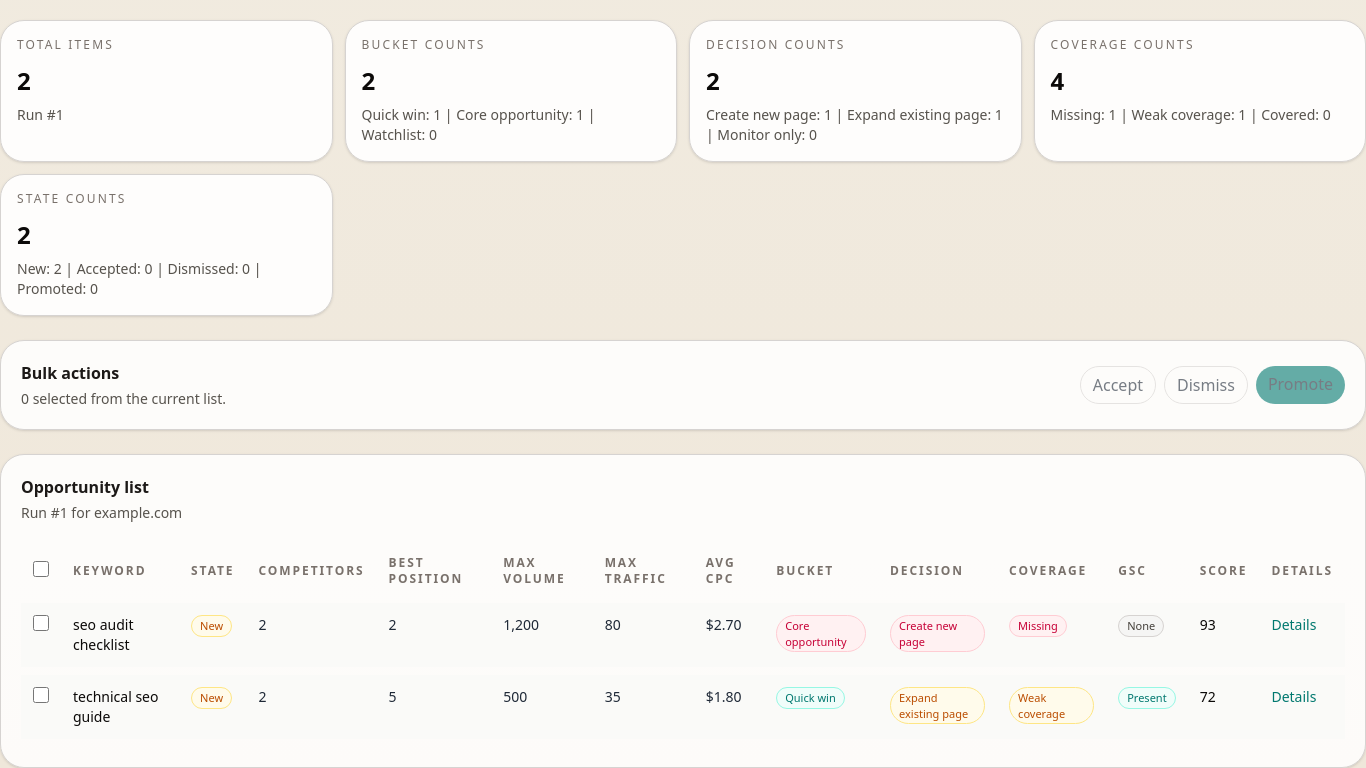
Test: SiteCompetitiveGapSemstormPage › supports bulk dismiss and updates state badge
(page scrolled)
Check: the heading "Opportunity list" is shown, box [21,476,149,498]
Click the checkbox named "Select seo audit checklist". click: x=41, y=623
box: [33,615,49,631]
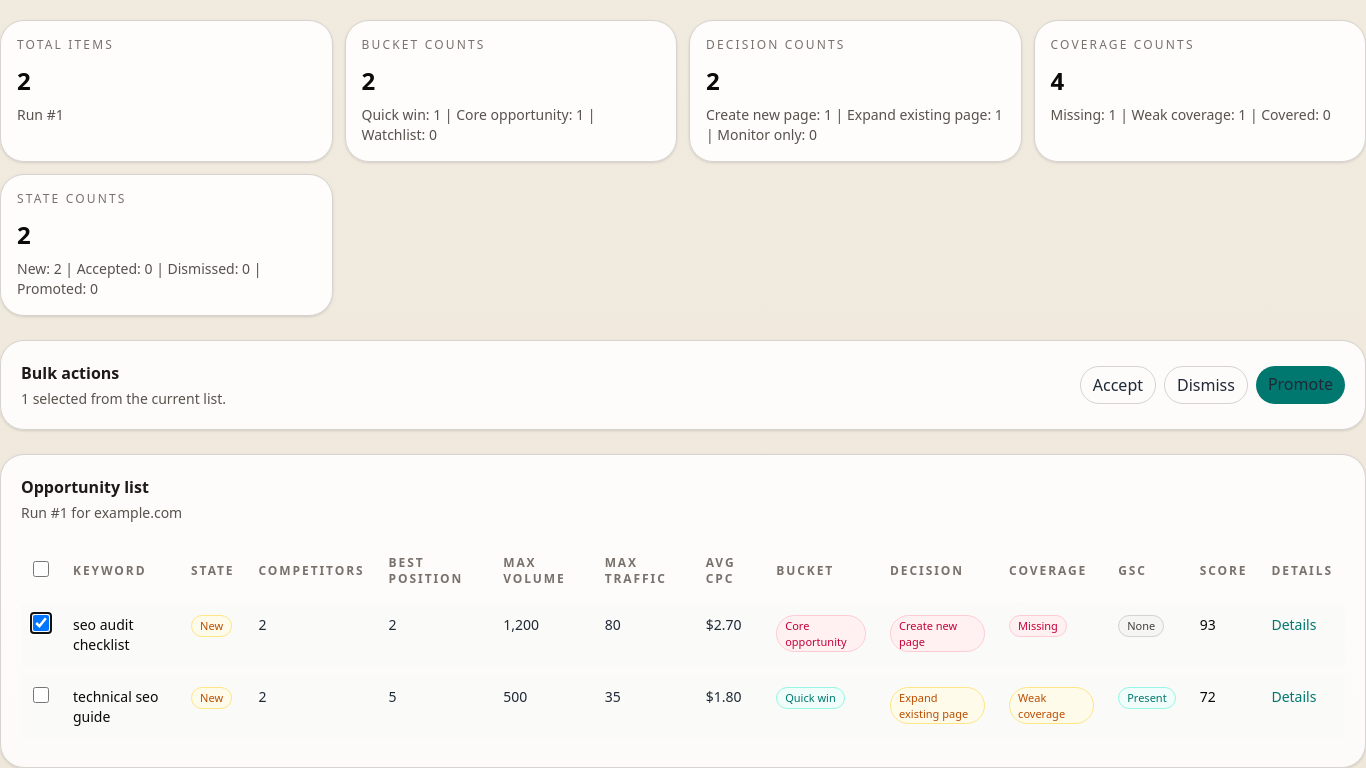
Click the button "Dismiss". click: x=1206, y=385
box: [1164,366,1248,404]
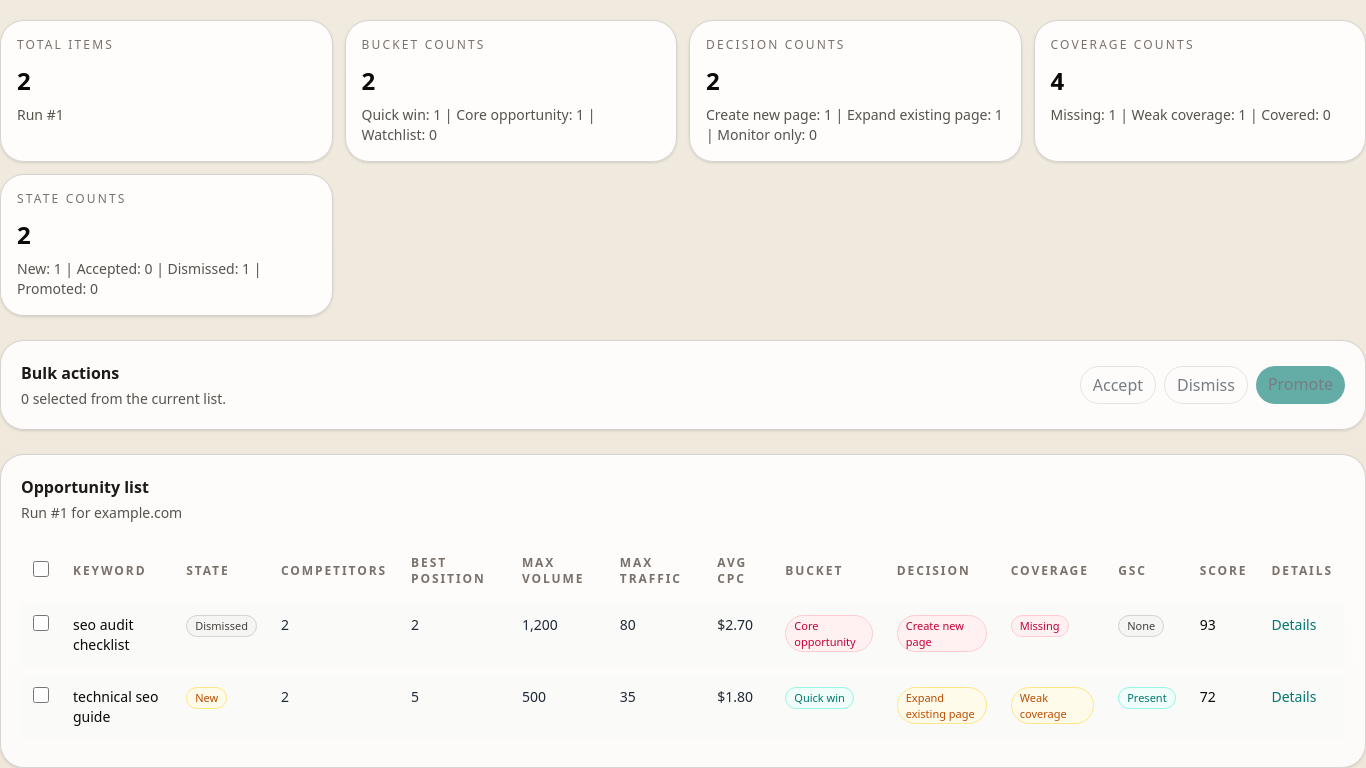
Check: the text "seo audit checklist" is shown, box [73,615,134,654]
Check: the text "Dismissed" is shown, box [186,615,257,637]
